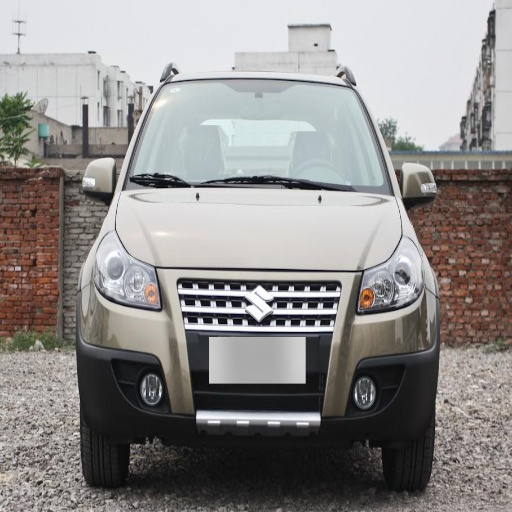front_bumper: (77, 267, 438, 433)
front_right_light: (92, 246, 163, 311)
hood: (115, 186, 402, 270)
left_mirror: (401, 163, 438, 204)
